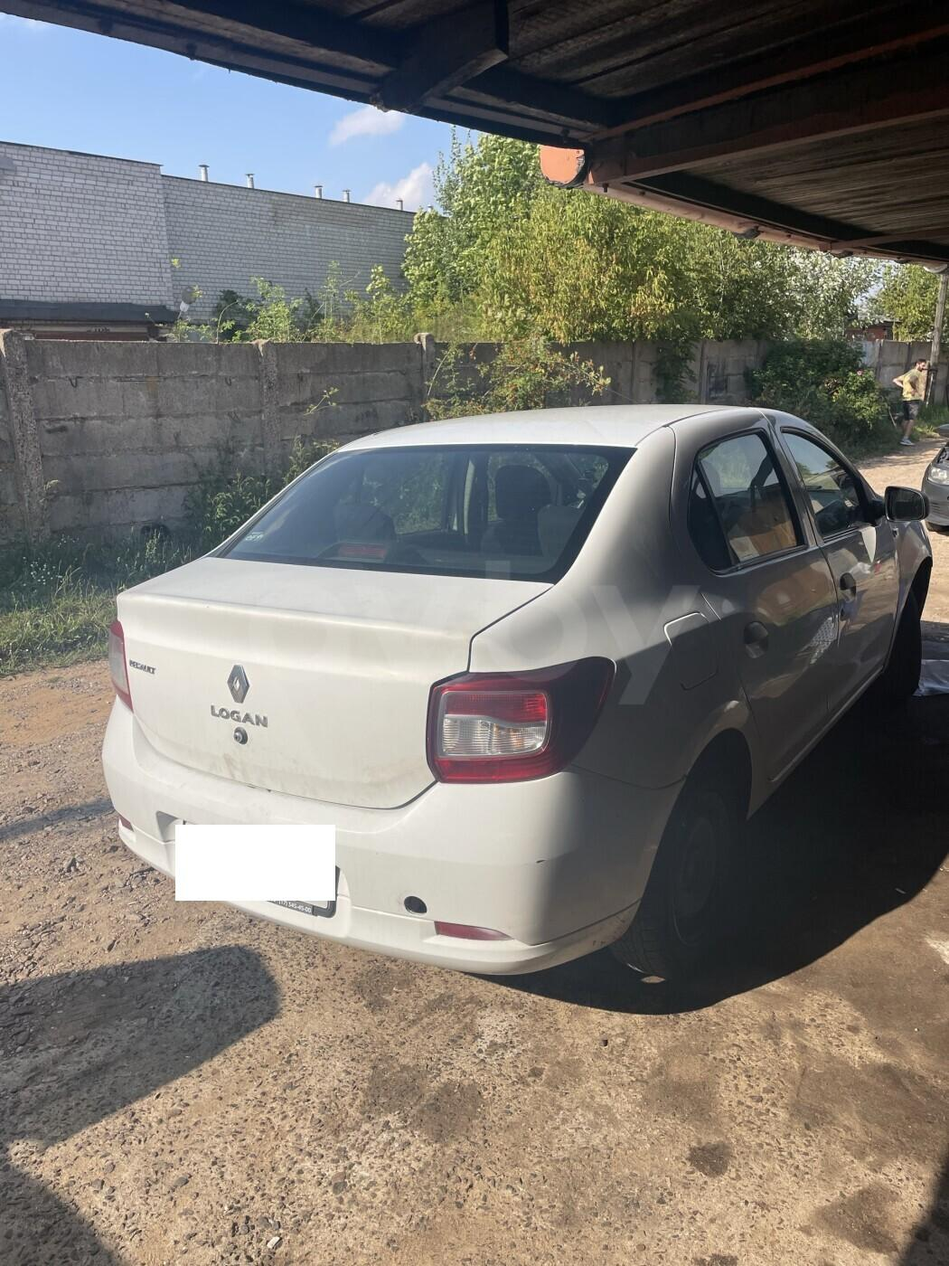Logan_2013-2018: (87, 394, 940, 1004)
